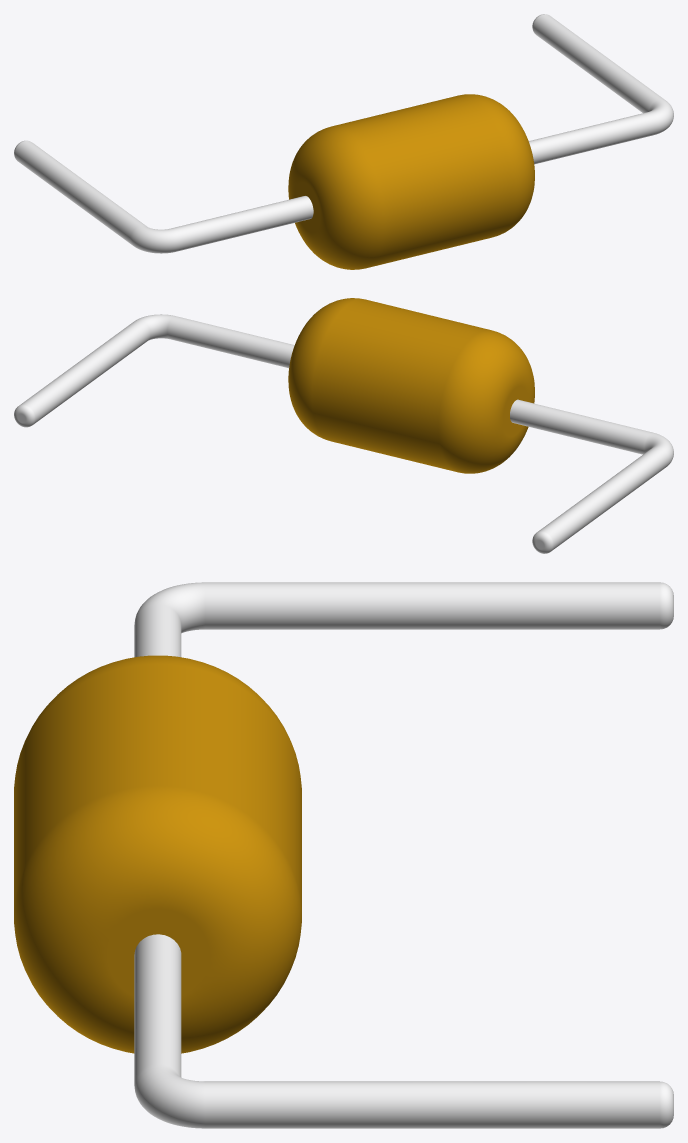
The model's file is CAP_AXIAL_THT_L5.1-D3.1-P12.70.obj.
The picture shows the model from 3 angles, top to bottom: view 1: azimuth 30°, elevation 25°; view 2: azimuth 150°, elevation 25°; view 3: azimuth 270°, elevation 25°; orthographic projection. The views are drawn at different scales.
Visible parts, largest first — view 1: Body1:1, Body1; view 2: Body1:1, Body1; view 3: Body1:1, Body1.
Part boxes in pixels (x1,y1,x2,y2): Body1:1: (288, 94, 534, 269); Body1: (14, 14, 673, 253); Body1:1: (288, 298, 534, 473); Body1: (14, 314, 673, 553); Body1:1: (14, 655, 301, 1053); Body1: (134, 582, 673, 1128).
Size of the model in its own units: 13.21 by 3.1 by 7.1.
